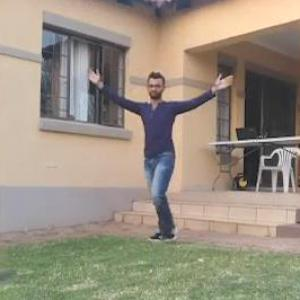takeoff: (86, 61, 236, 249)
